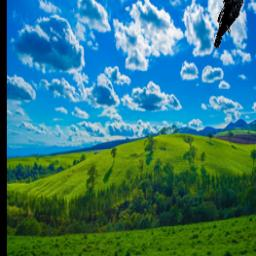Crow: (214, 0, 252, 48)
